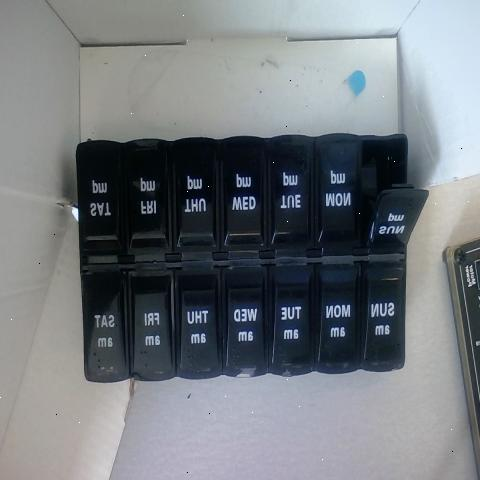FRI-am: (133, 269, 171, 378)
FRI-pm: (128, 141, 167, 262)
MON-am: (318, 266, 358, 370)
MON-pm: (316, 143, 362, 256)
Open: (360, 136, 411, 251)
SAT-am: (88, 266, 126, 388)
SAT-pm: (80, 146, 122, 262)
SUN-am: (368, 192, 424, 252)
SUN-pm: (363, 262, 408, 372)
THU-am: (179, 269, 220, 381)
THU-pm: (176, 139, 218, 262)
TUE-am: (272, 263, 313, 379)
TUE-pm: (268, 138, 311, 252)
WED-am: (224, 270, 266, 380)
WED-pm: (222, 145, 264, 263)
